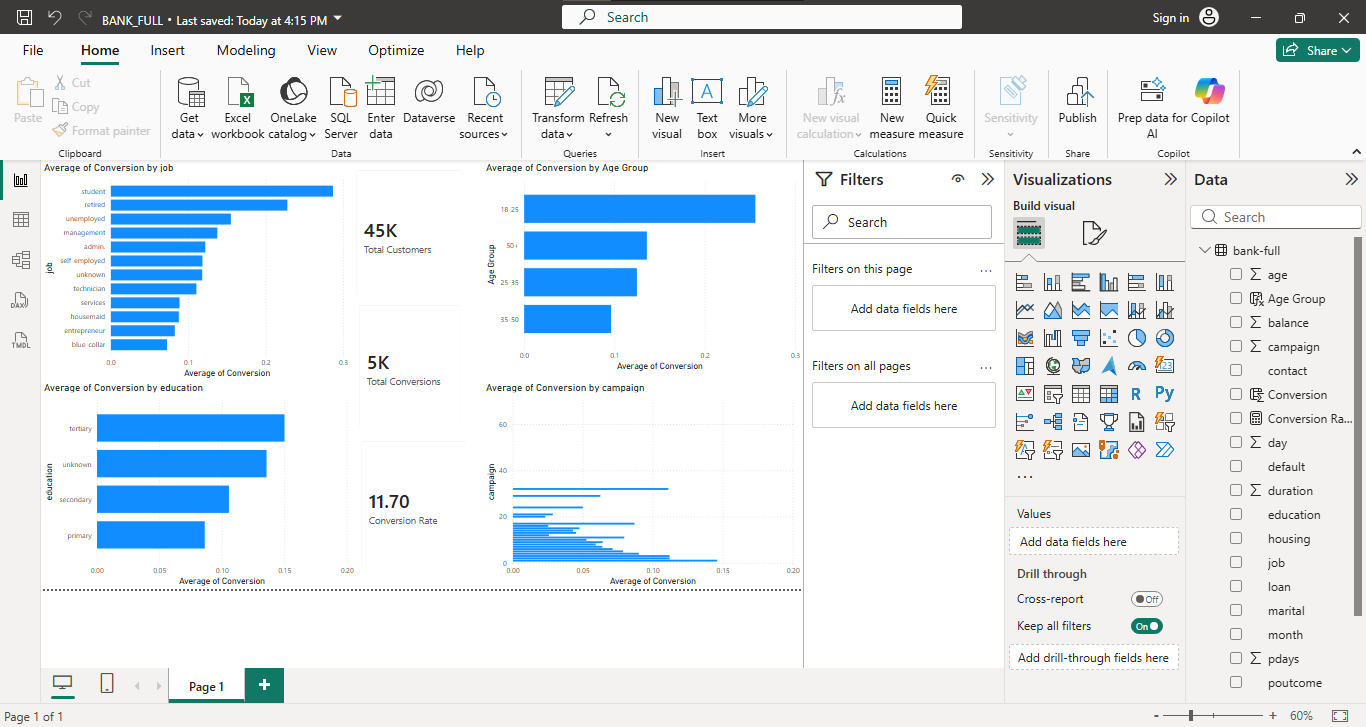

The dashboard page shown, as its layout file describes it:
{"tool":"powerbi","page":{"name":"Page 1","canvas":[1280,720],"ordinal":0},"visuals":[{"type":"cardVisual","fields":{"Data":["bank-full.Total Customers"]},"box":[512.3,0,213.3,252],"z":0},{"type":"cardVisual","fields":{"Data":["bank-full.Total Conversions"]},"box":[517.4,226.8,204.9,241.9],"z":1},{"type":"cardVisual","fields":{"Data":["bank-full.Conversion Rate"]},"box":[520.7,455.2,211.7,252],"z":2},{"type":"barChart","fields":{"Category":["bank-full.job"],"Y":["Avg(bank-full.Conversion)"]},"box":[0,1.7,520.7,369.6],"z":3},{"type":"barChart","fields":{"Category":["bank-full.education"],"Y":["Avg(bank-full.Conversion)"]},"box":[0,371.2,530.8,349.4],"z":4},{"type":"barChart","fields":{"Category":["bank-full.Age Group"],"Y":["Avg(bank-full.Conversion)"]},"box":[742.5,1.7,537.5,357.8],"z":5},{"type":"barChart","fields":{"Category":["bank-full.campaign"],"Y":["Avg(bank-full.Conversion)"]},"box":[742.5,371.2,537.5,349.4],"z":6}]}

Visuals, with their boxes on the page's 1280x720 design canvas (x1, y1, x2, y2). These are canvas units, not pixel positions in the 1366x727 screenshot, which may show the page scaled, cropped or inside an application window:
cardVisual - bank-full.Total Customers: l=512, t=0, r=726, b=252
cardVisual - bank-full.Total Conversions: l=517, t=227, r=722, b=469
cardVisual - bank-full.Conversion Rate: l=521, t=455, r=732, b=707
barChart - bank-full.job x Avg(bank-full.Conversion): l=0, t=2, r=521, b=371
barChart - bank-full.education x Avg(bank-full.Conversion): l=0, t=371, r=531, b=721
barChart - bank-full.Age Group x Avg(bank-full.Conversion): l=742, t=2, r=1280, b=360
barChart - bank-full.campaign x Avg(bank-full.Conversion): l=742, t=371, r=1280, b=721
